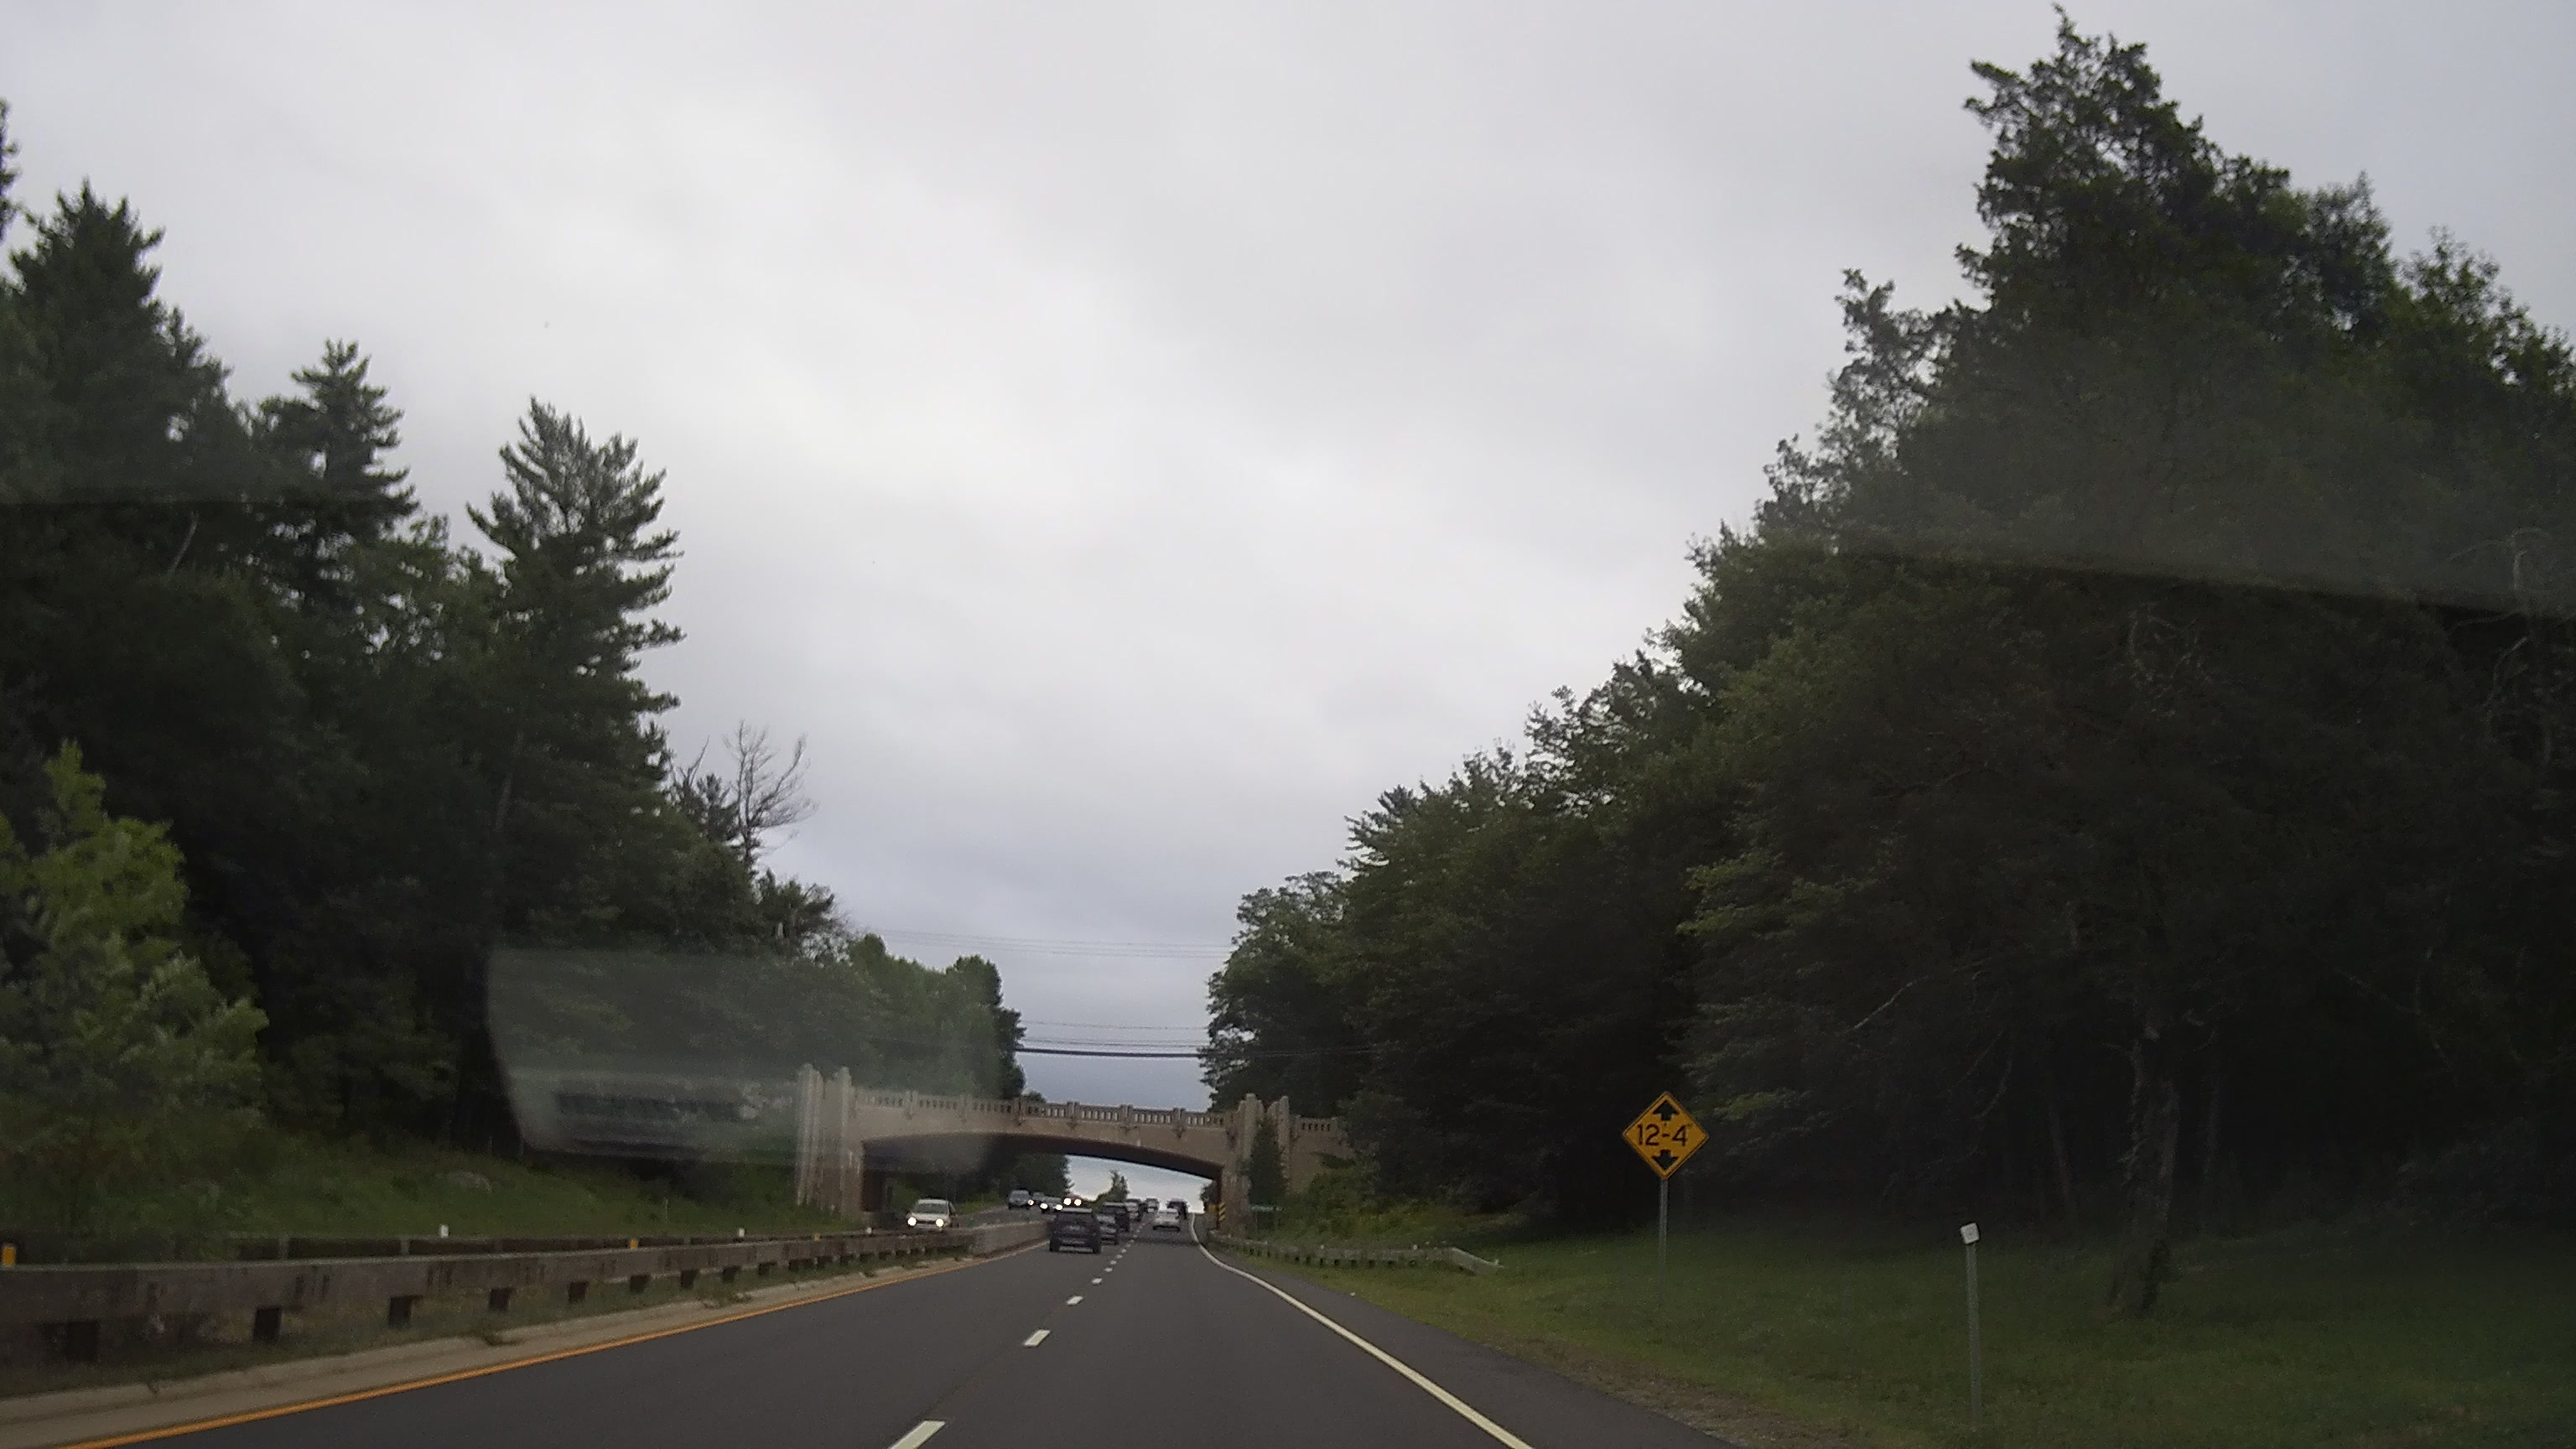low-clearance-sign: (1621, 1090, 1711, 1182)
